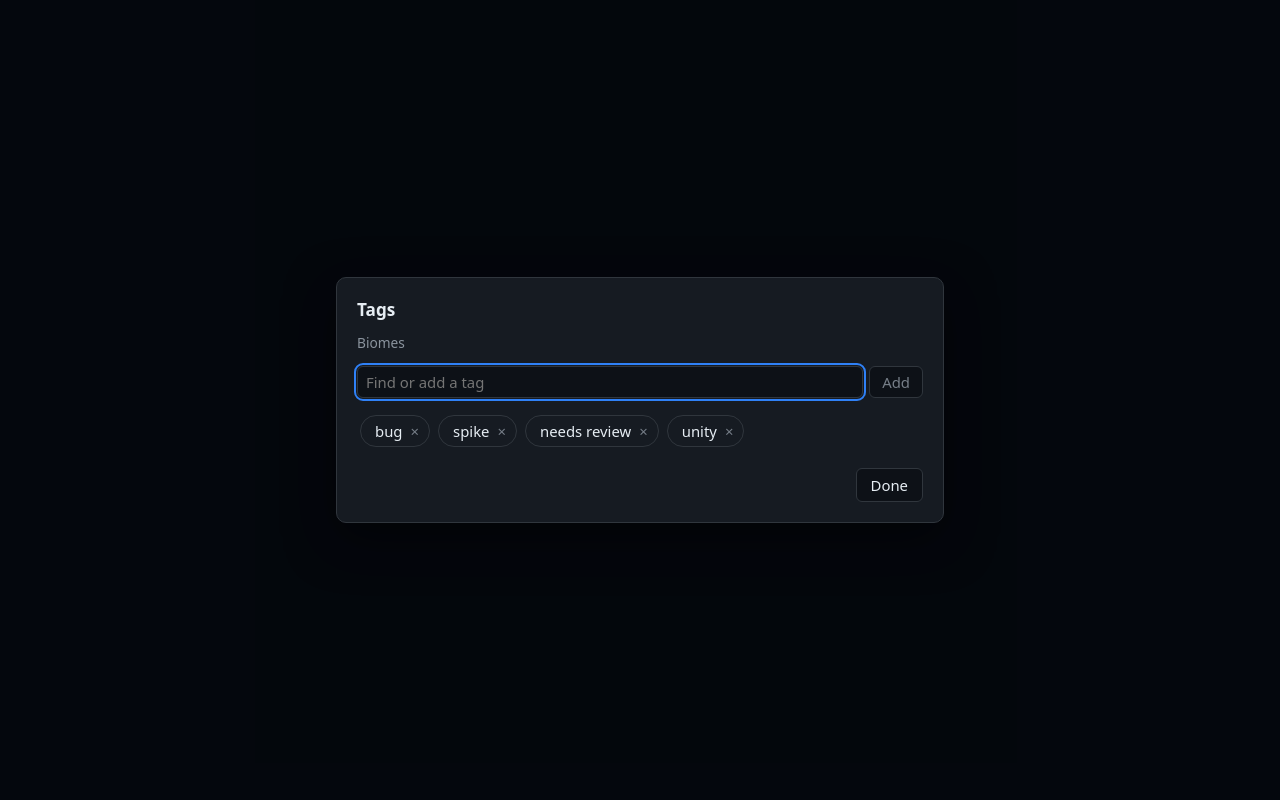
Test: finding a tag by typing › still offers to add one that exists but is not on this session
The width and height of the screenshot is (1280, 800).
Type "bug" into the field labelled "Find or add a tag". click: (610, 382)
box: [357, 366, 863, 398]
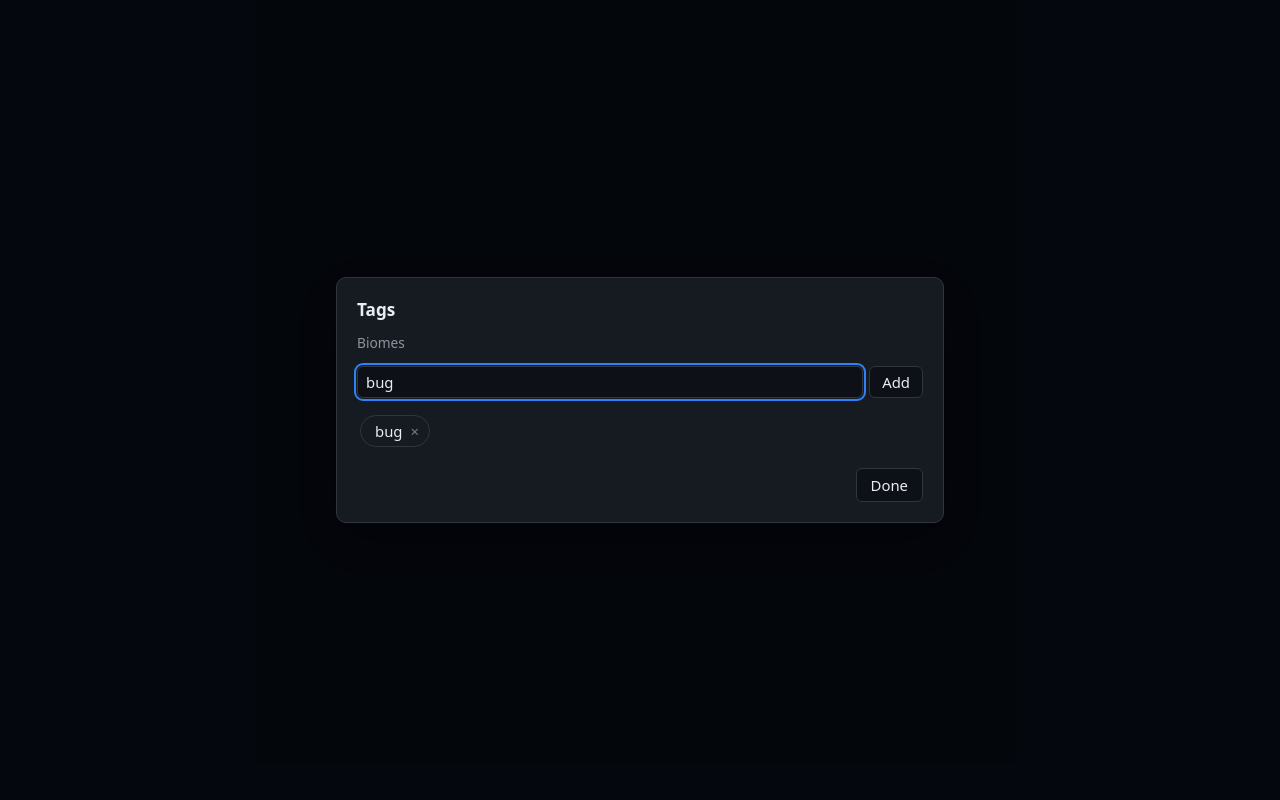
Now the button "Add" is enabled, box [869, 366, 923, 398]
